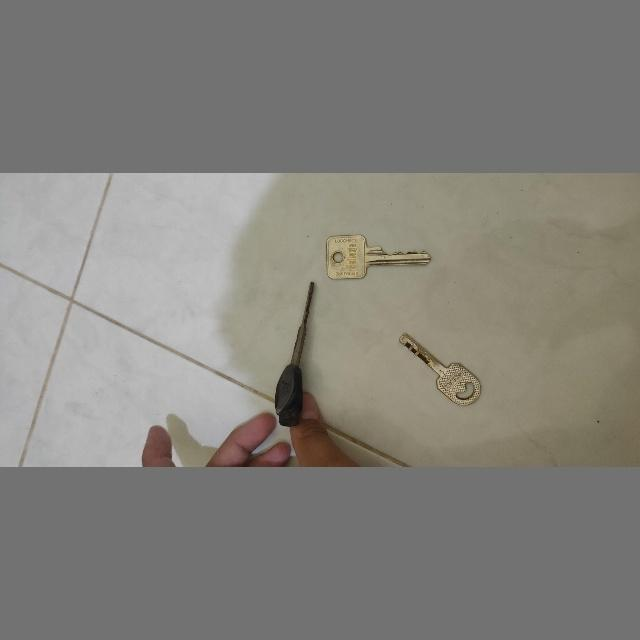Keys: (266, 279, 318, 427), (398, 328, 484, 409), (324, 231, 436, 285)
